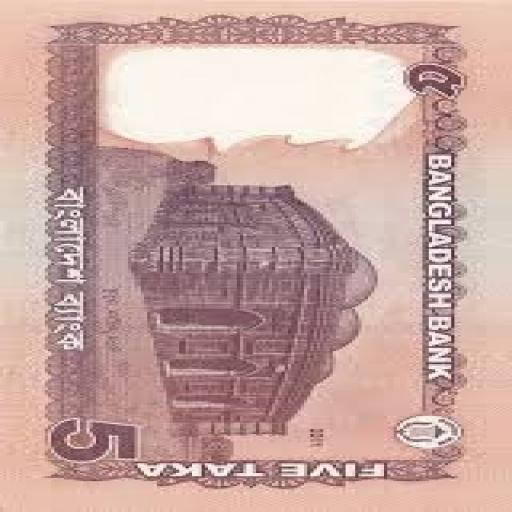5taka: (3, 0, 509, 510)
